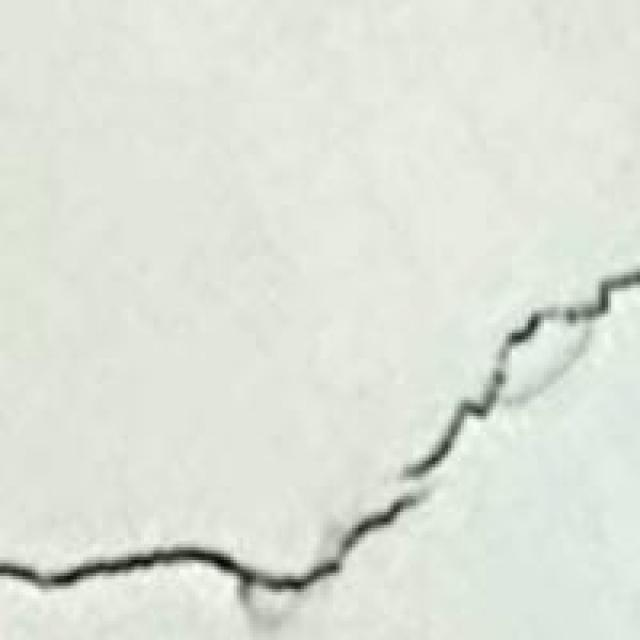Crack: (6, 263, 640, 612)
